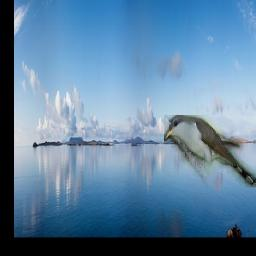Cuckoo: (164, 115, 256, 187)
